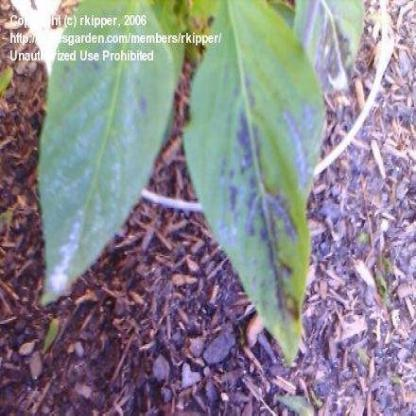bell pepper leaf: (185, 3, 313, 363), (40, 1, 174, 295)
